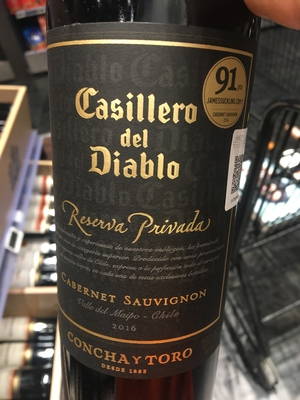casillero del diablo reserva privada cabernet sauvignon: (37, 1, 267, 392)
